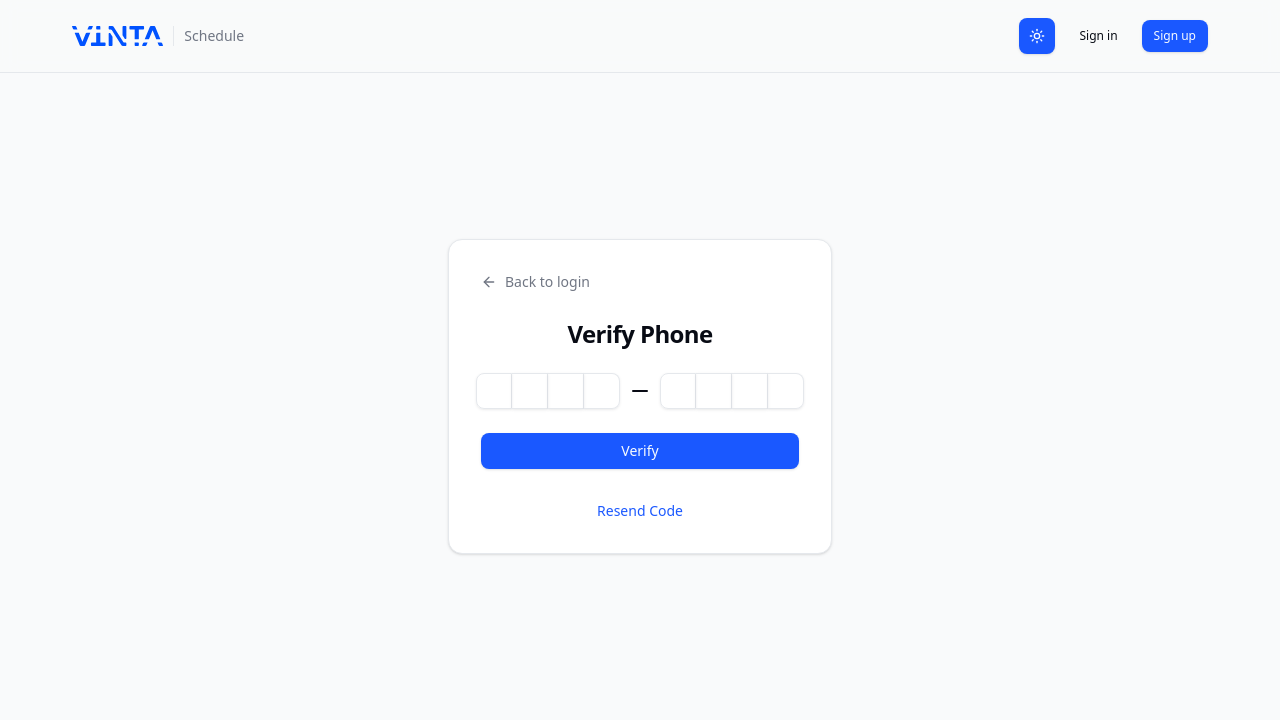
Test: VerifyPhonePage › resend: on 403 consent_required, records sms_consent for the account phone then retries and shows success
Click the button "Resend Code" at x=640, y=510, box [597,501,683,520]
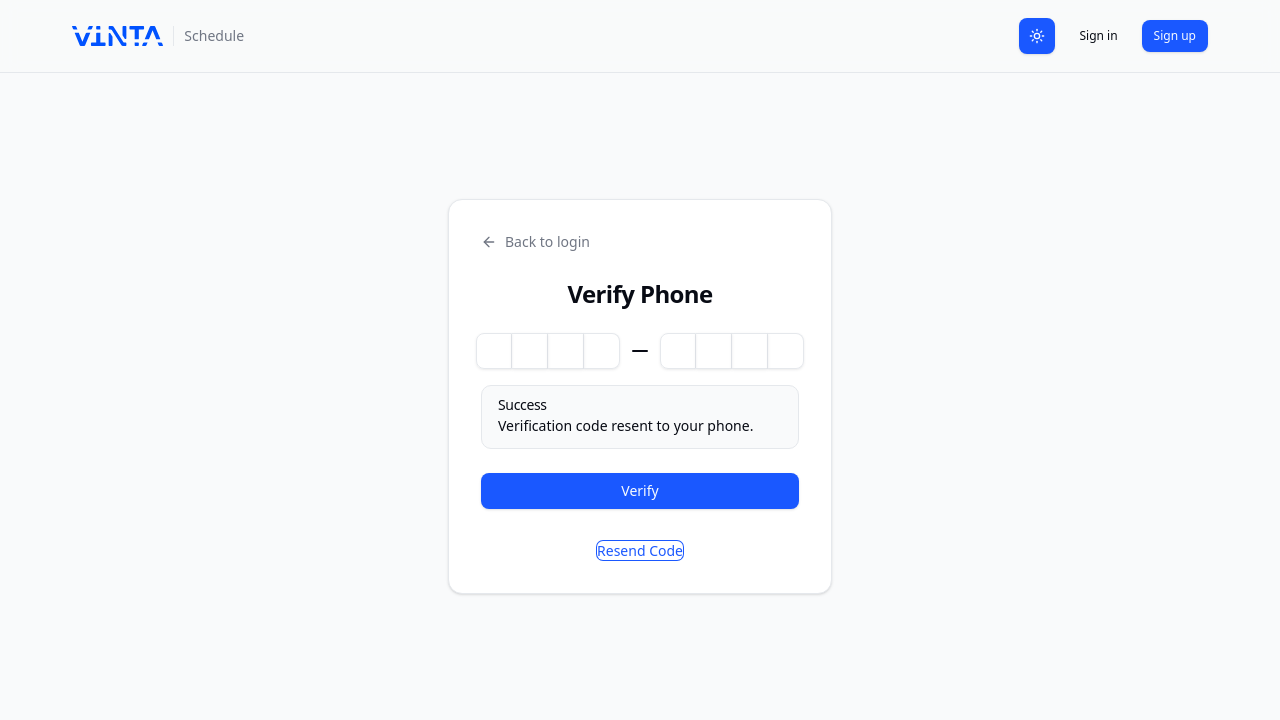
Now the text "Verification code resent to your phone." is shown, box [498,416,782,436]
